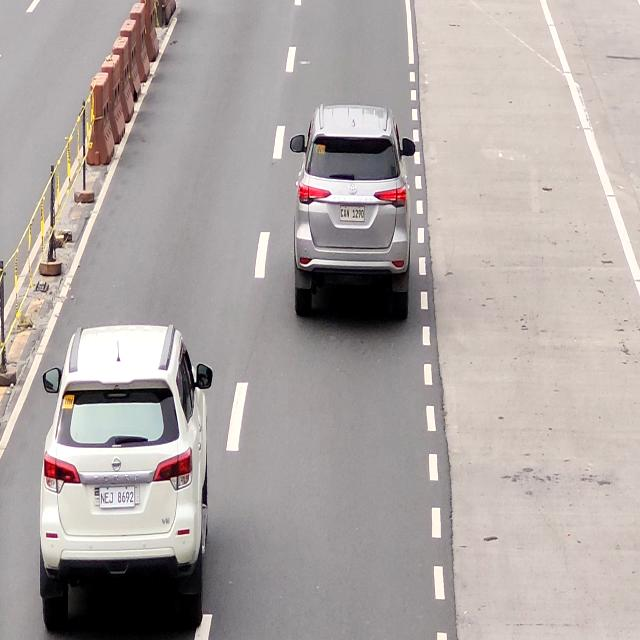Car: (41, 328, 209, 636), (291, 106, 413, 327)
License-Plate: (96, 481, 138, 509), (338, 202, 367, 226)
